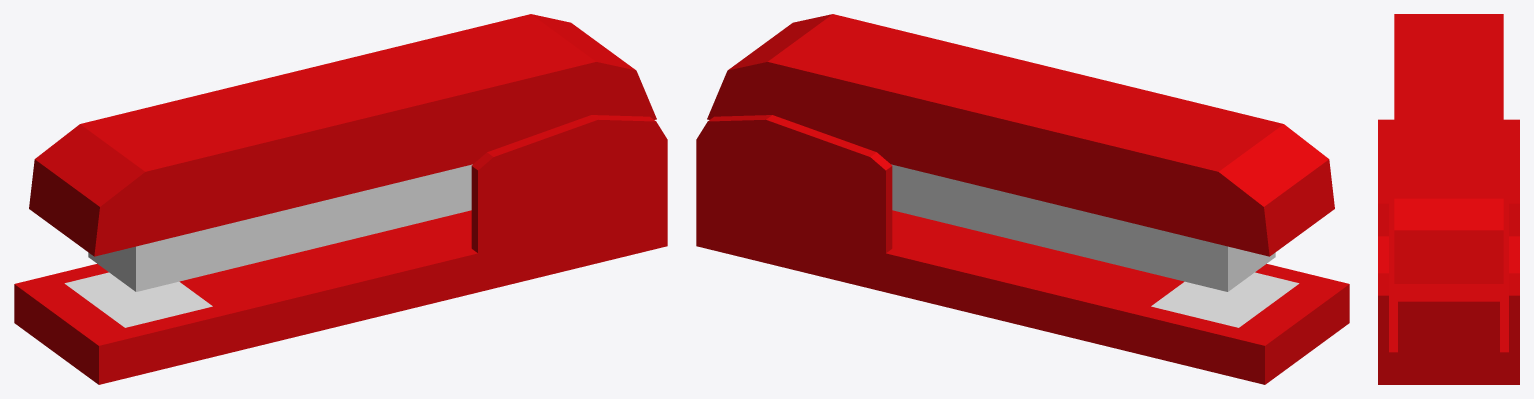
The model's file is stapler1.fbx.
3 renders of one model, left to right at view 1: azimuth 30°, elevation 25°; view 2: azimuth 150°, elevation 25°; view 3: azimuth 270°, elevation 25°, orthographic. The views are drawn at different scales.
Visible parts, largest first — view 1: StaplerTopHalf, StaplerBottomHalf; view 2: StaplerTopHalf, StaplerBottomHalf; view 3: StaplerTopHalf, StaplerBottomHalf.
Boxes of the visible parts, <box> form: StaplerTopHalf: <box>29,14,656,291</box>; StaplerBottomHalf: <box>14,115,667,384</box>; StaplerTopHalf: <box>707,14,1334,291</box>; StaplerBottomHalf: <box>696,115,1349,384</box>; StaplerTopHalf: <box>1394,14,1503,283</box>; StaplerBottomHalf: <box>1378,119,1519,384</box>.
Bounding box in the file's own units: 776 × 251 × 200.
